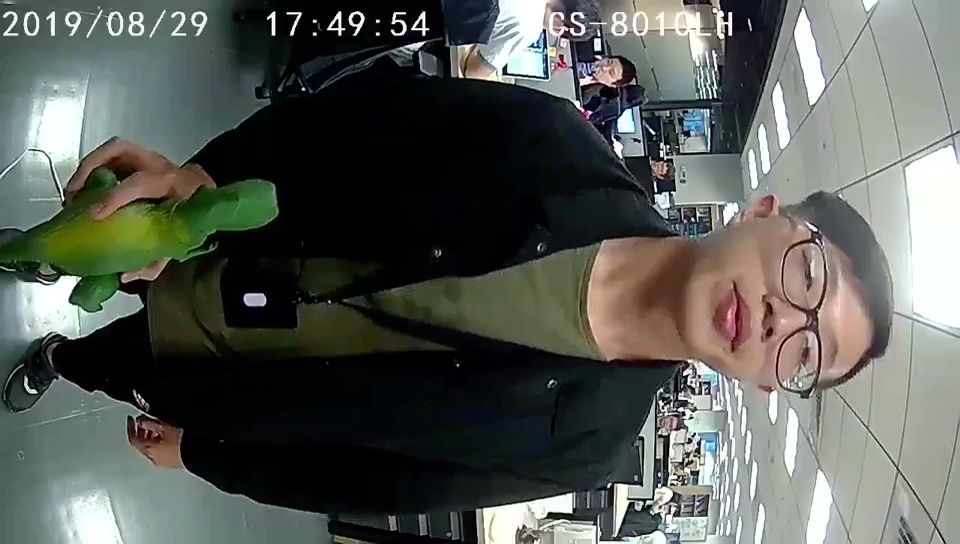rex: (25, 164, 282, 312)
